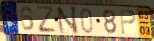0: (79, 7, 94, 35)
6: (20, 6, 36, 32)
8: (102, 9, 118, 35)
N: (55, 6, 80, 35)
P: (118, 9, 137, 36)
Z: (35, 6, 58, 34)
